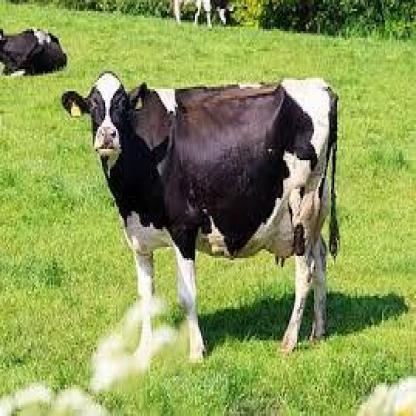cow: (62, 70, 340, 366), (1, 27, 67, 78), (174, 0, 231, 31)
